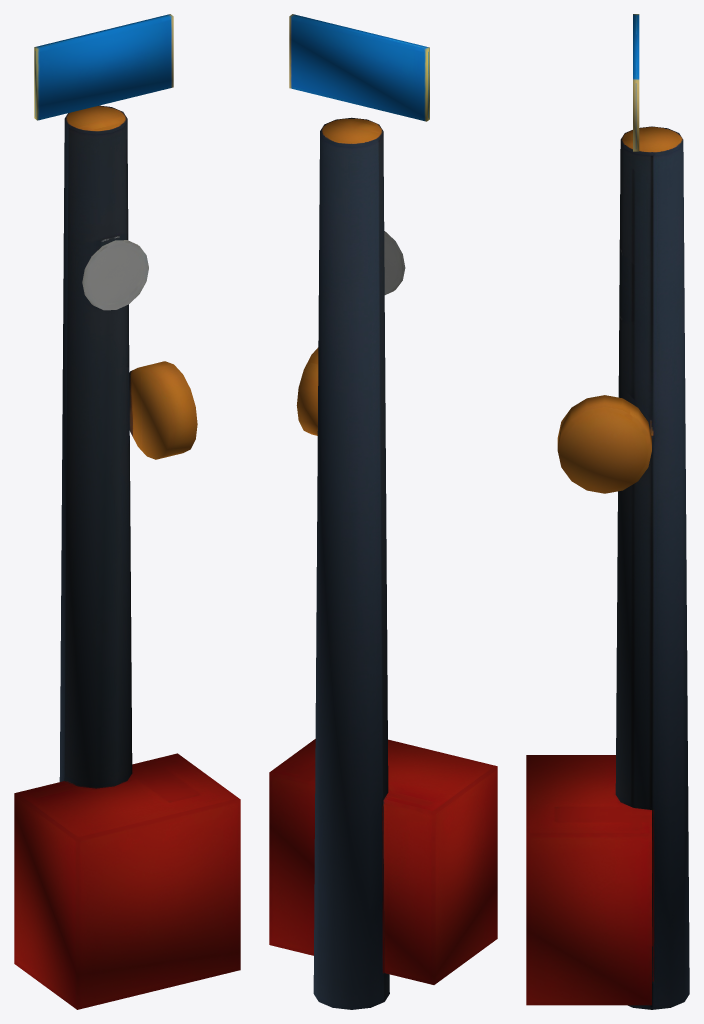
File: yard-air-hose-body-tripo-original.glb
3 renders of one model, left to right at view 1: azimuth 30°, elevation 25°; view 2: azimuth 150°, elevation 25°; view 3: azimuth 270°, elevation 25°, orthographic.
Visible parts, largest first — view 1: Authored_surface_019; view 2: Authored_surface_019; view 3: Authored_surface_019.
Part boxes in pixels (x1=…): Authored_surface_019: x1=14, y1=14, x2=240, y2=1009; Authored_surface_019: x1=269, y1=14, x2=497, y2=1009; Authored_surface_019: x1=526, y1=14, x2=689, y2=1009.
Bounding box in the file's own units: 0.1805 × 1 × 0.1564.
Materials: 1 (1 with a texture image).
